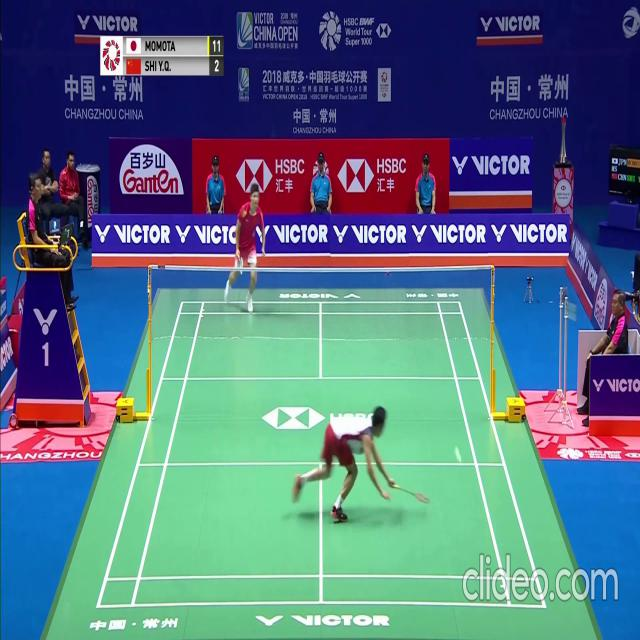Shuttlecock: (457, 456, 462, 464)
